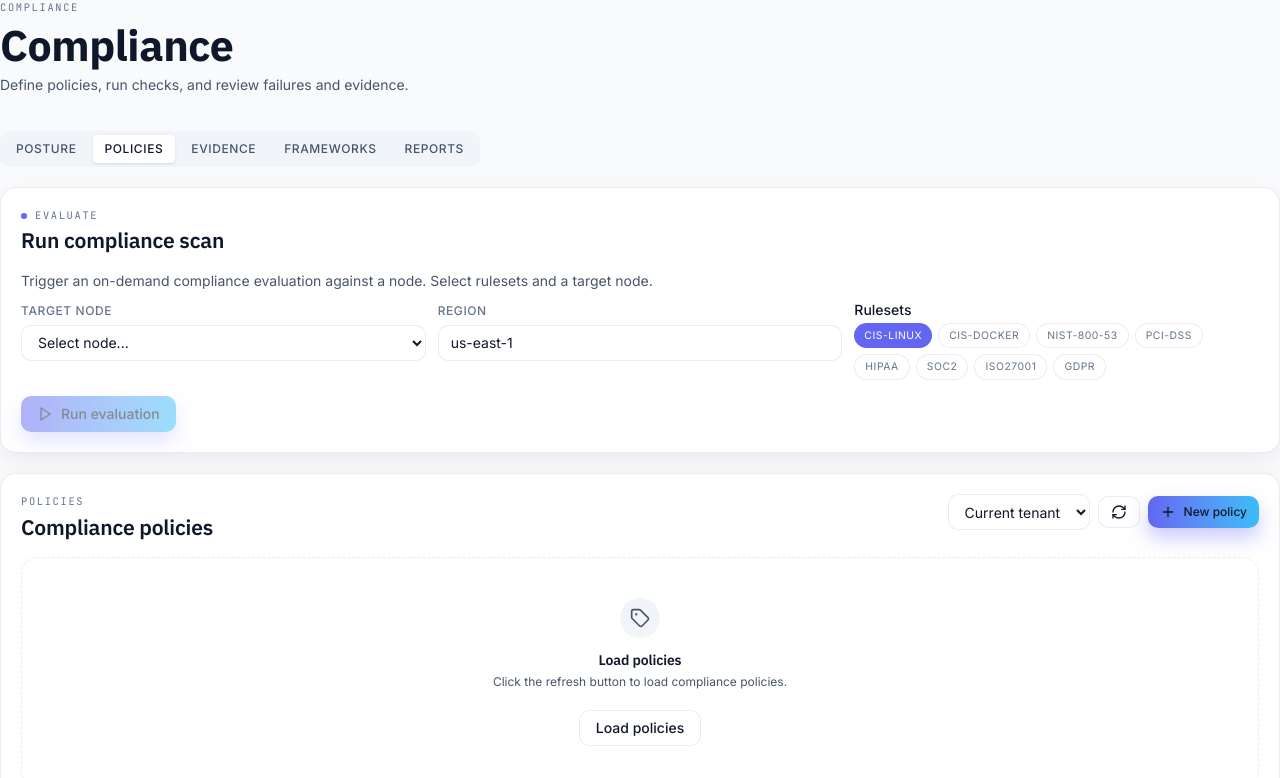
Compliance policies › keeps failed assignment removal inside the confirmation modal
Click the button "Load policies": point(640, 728) [579,710,701,746]
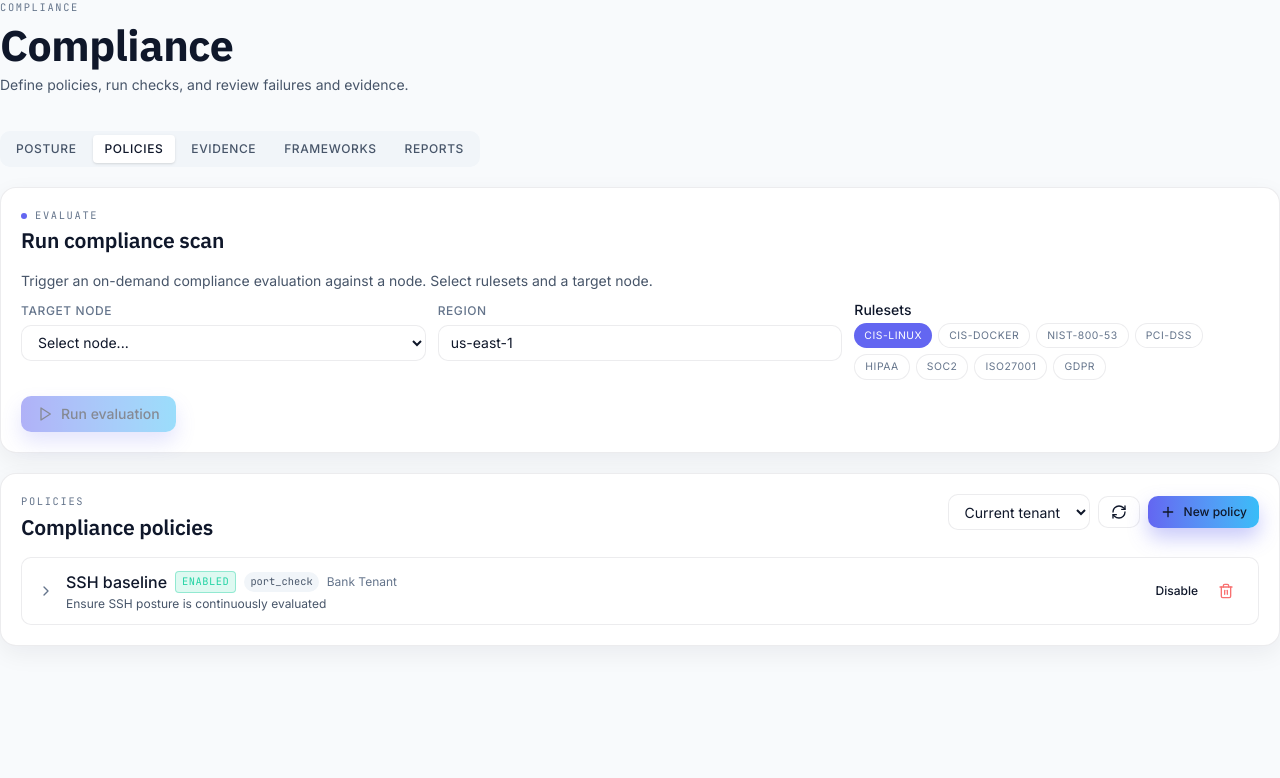
Click the button named "expand compliance policy ssh baseline": point(46, 591) [38,583,54,599]
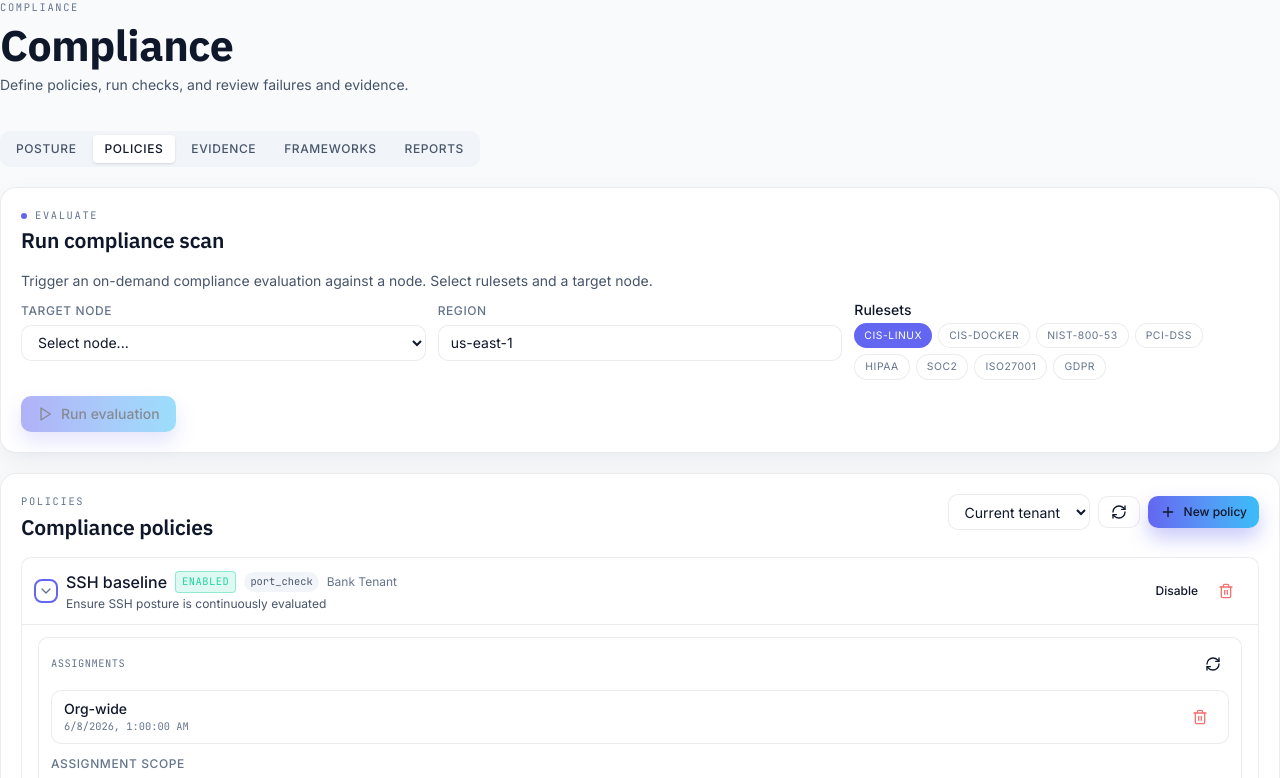
Expected: the text "Org-wide" is shown, [64,700,127,717]
Click the button named "remove policy assignment org-wide": point(1200, 717) [1184,703,1216,731]
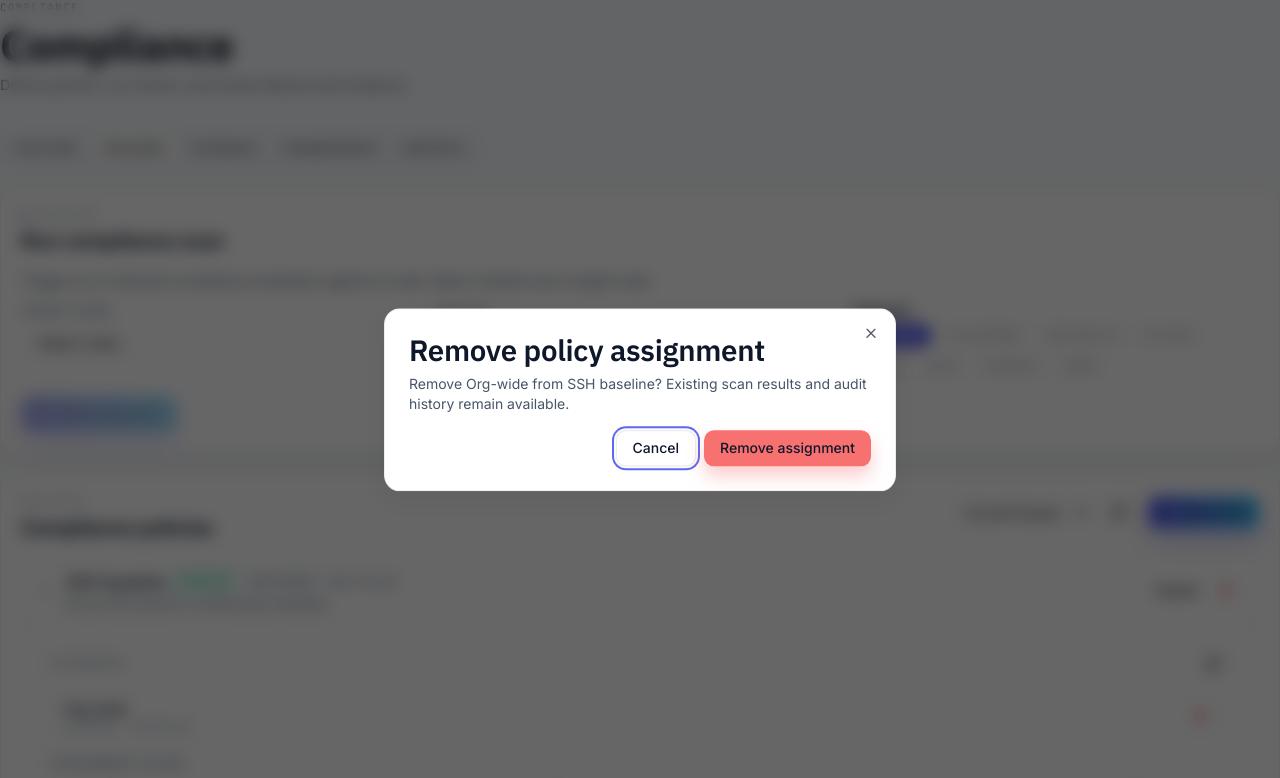
Click the button "Remove assignment": point(788, 449) [704,431,871,467]
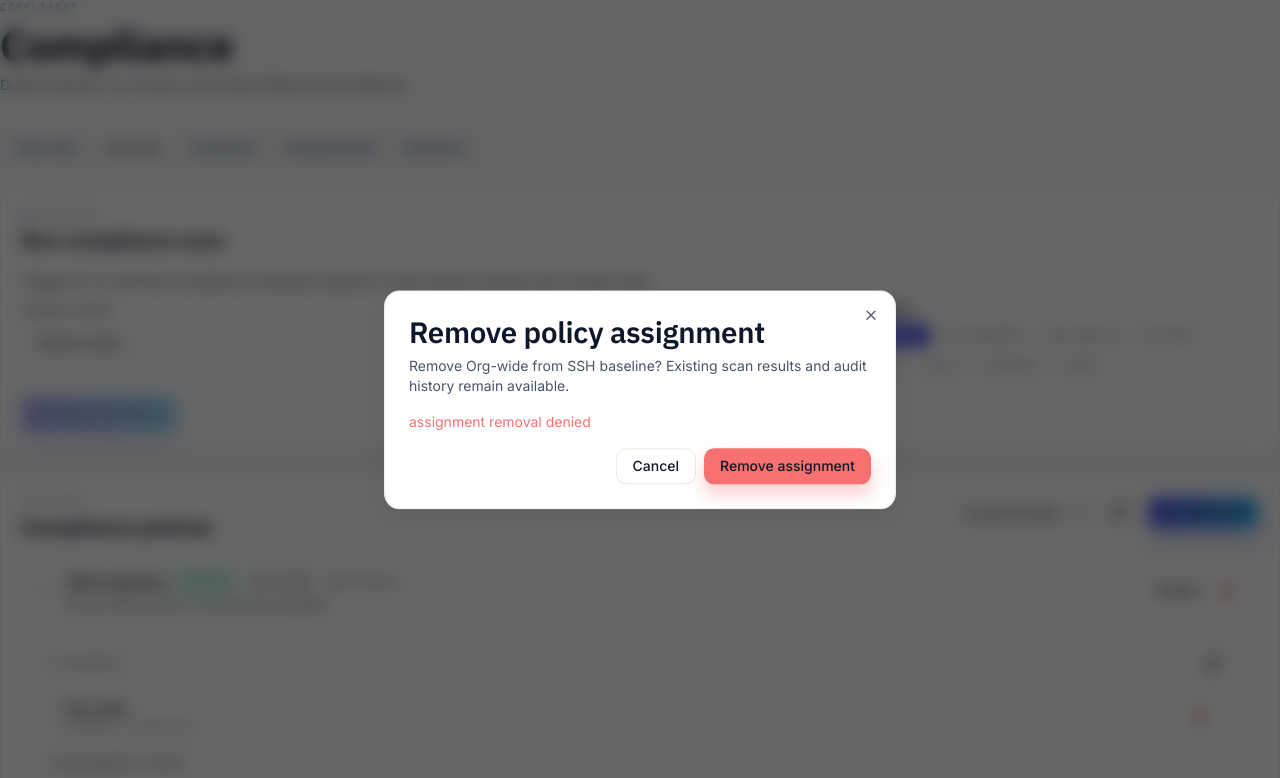
Expected: the dialog "Remove policy assignment" is shown, [384,290,896,510]
Expected: the message reads "assignment removal denied", [409,414,591,431]
